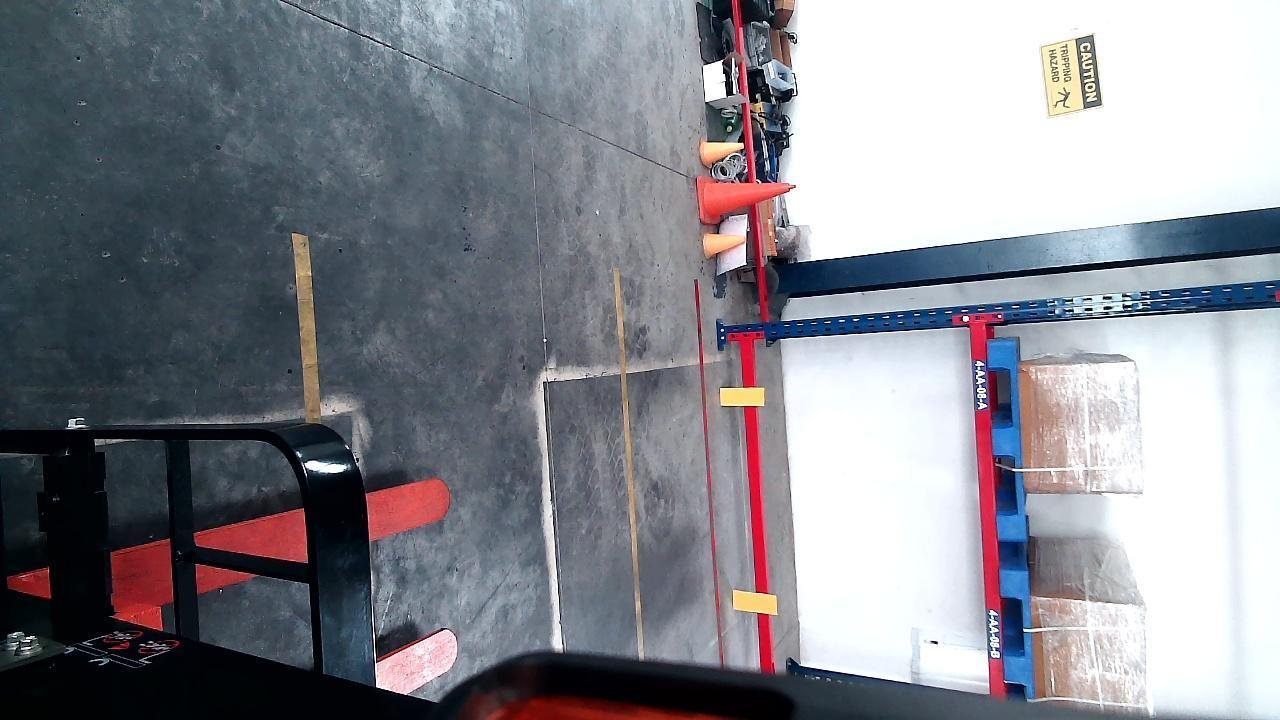h_rack: (739, 339, 773, 676), (973, 323, 1002, 702)
orange_strip: (718, 383, 762, 409), (733, 588, 775, 613)
small_pallet: (989, 335, 1026, 529), (997, 561, 1034, 700)
yellow_line: (613, 277, 643, 663), (291, 233, 321, 419)
